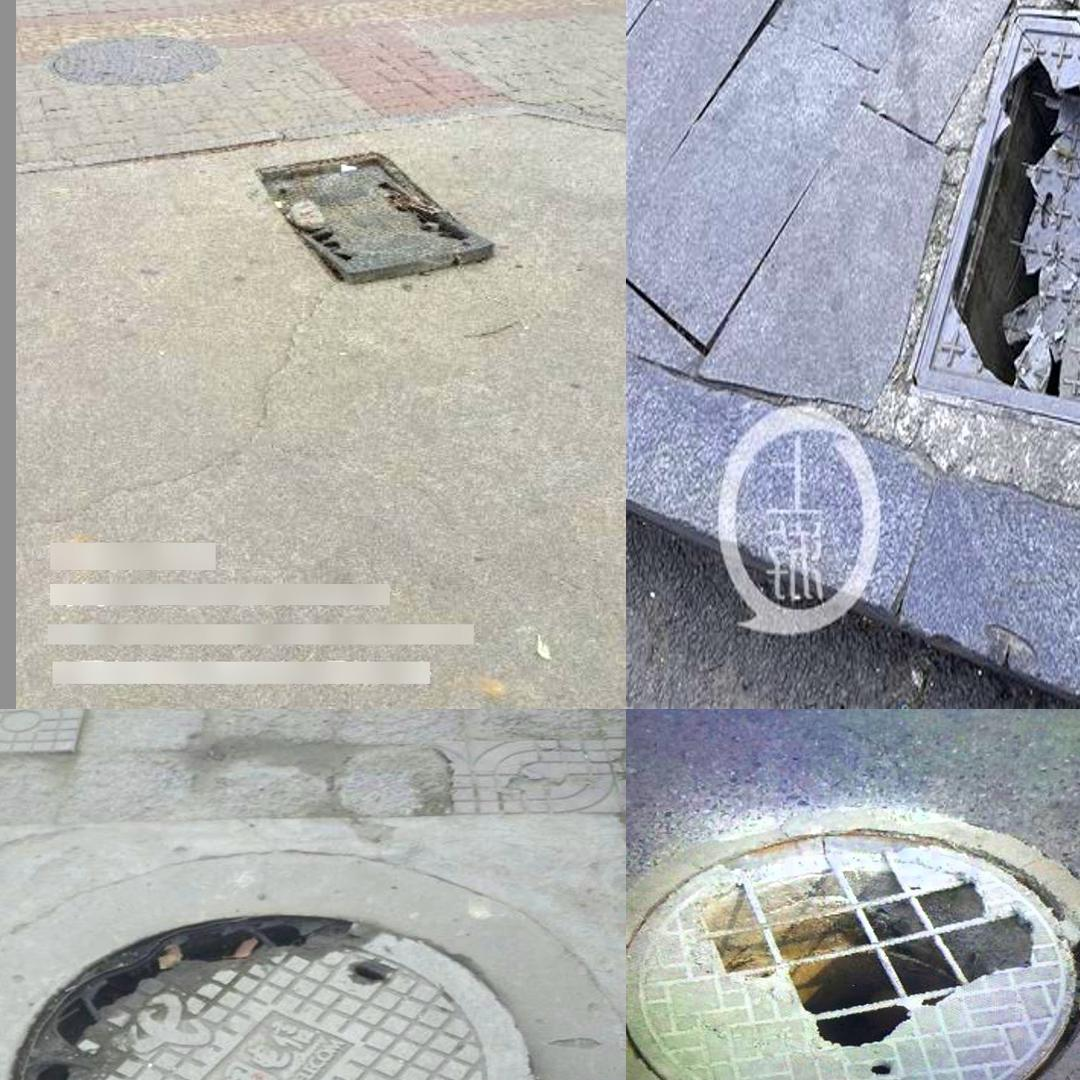broke: (0, 839, 588, 1080), (629, 784, 1080, 1080), (851, 0, 1080, 456), (253, 151, 496, 282)
good: (44, 33, 221, 86)
